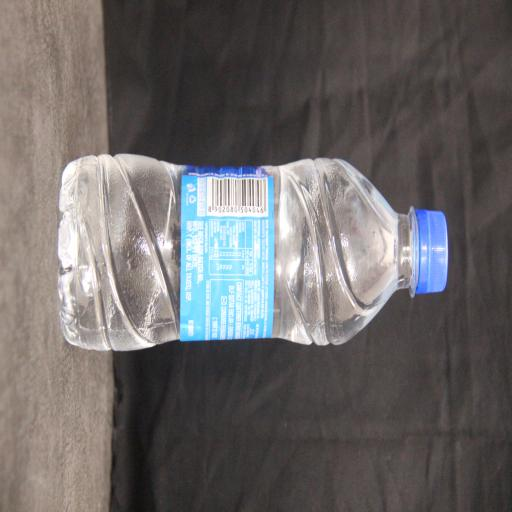Aquafina: (105, 96, 230, 512)
